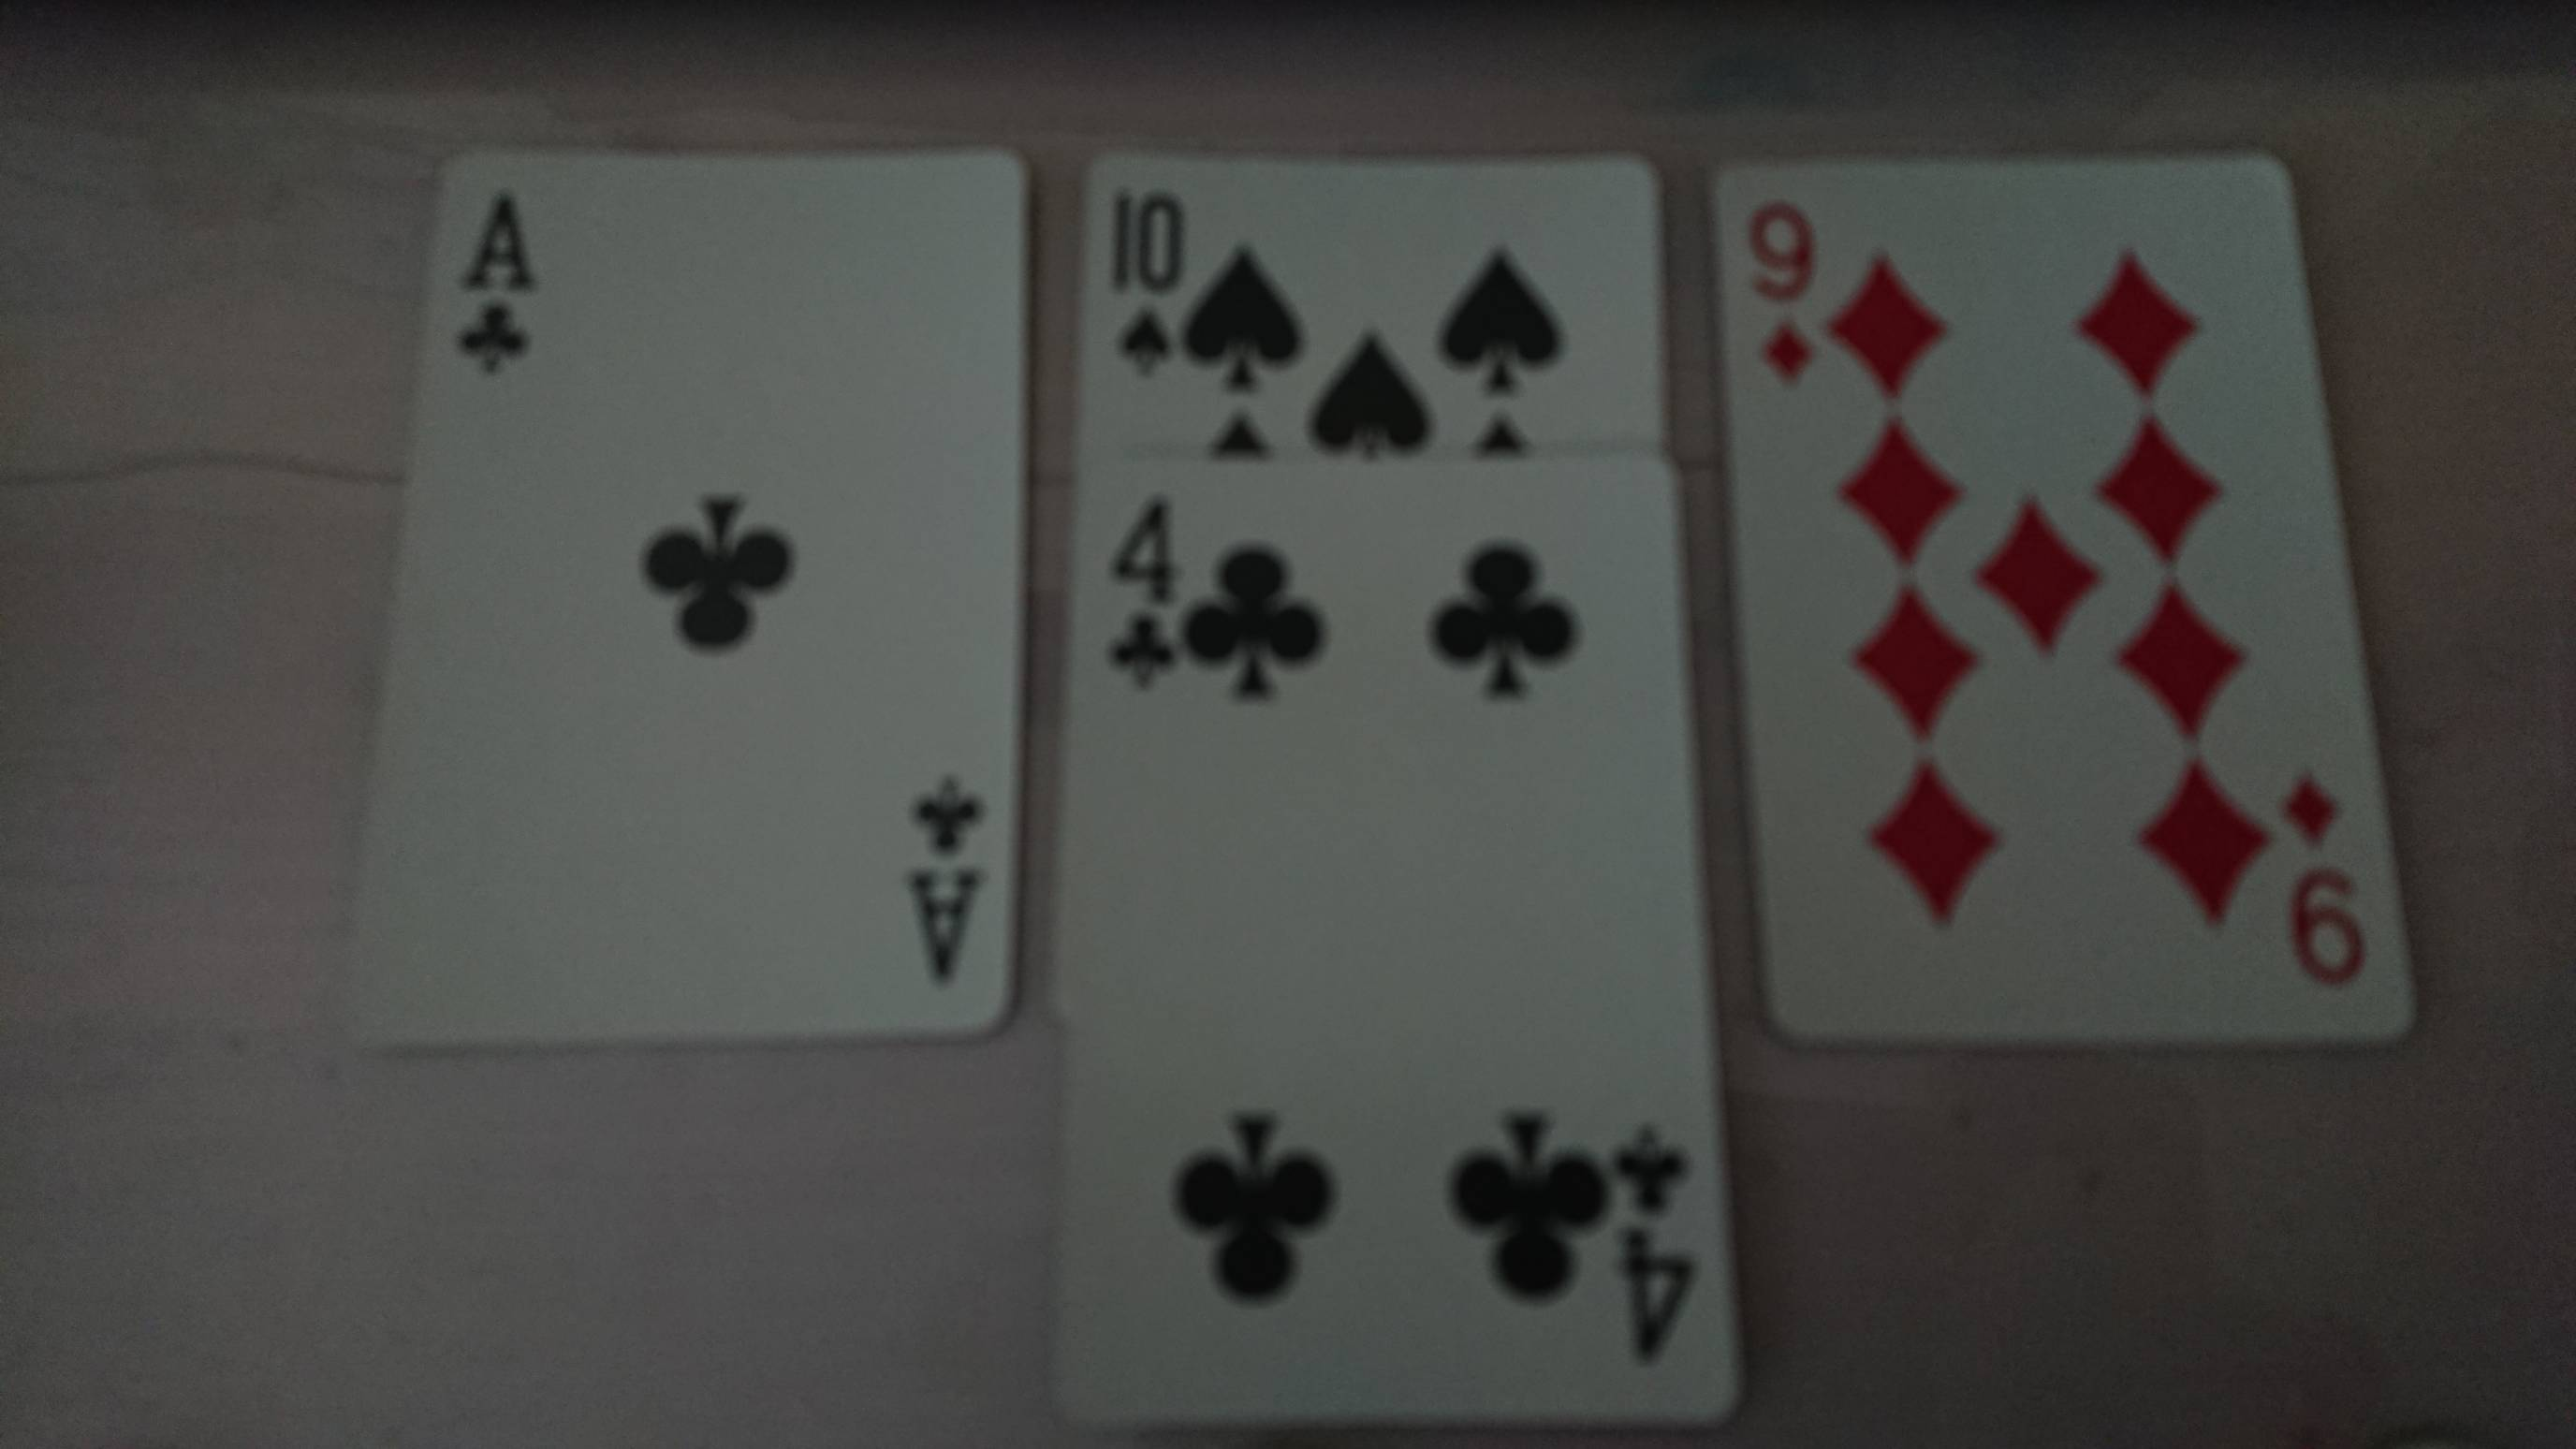10S: (1100, 179, 1194, 384)
4C: (1095, 485, 1184, 699)
9D: (1741, 198, 1826, 391)
AC: (446, 179, 547, 391)
